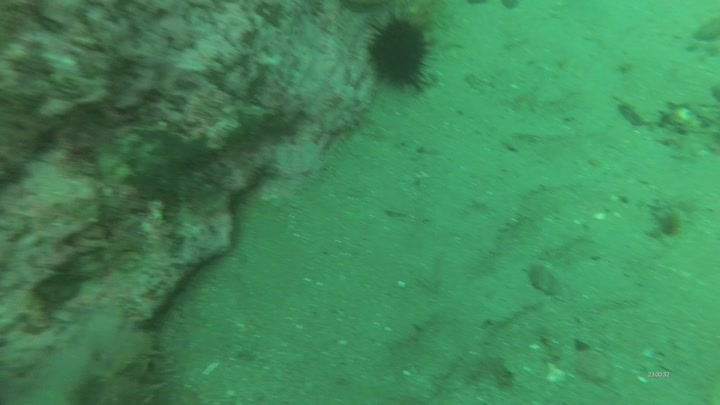echinus: (363, 11, 439, 95)
